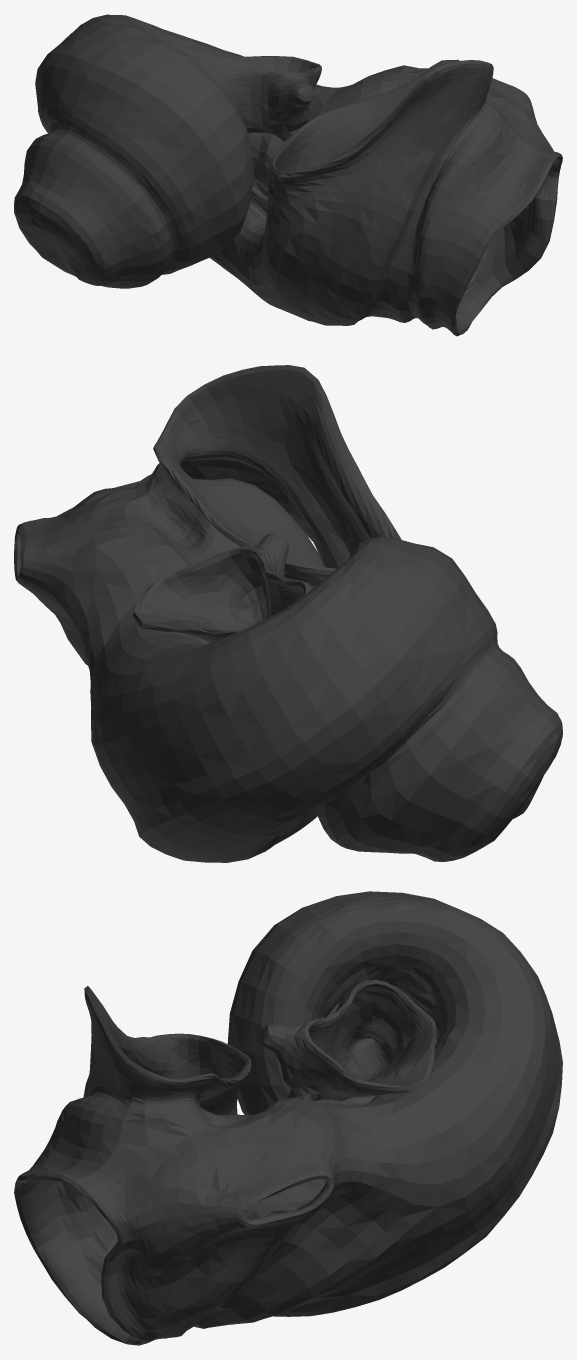
File: Cochlea_L.glb
3 views of the same model, one above another, from view 1: azimuth 30°, elevation 25°; view 2: azimuth 150°, elevation 25°; view 3: azimuth 270°, elevation 25° (orthographic). The views are drawn at different scales.
Visible parts, largest first — view 1: Cochlea_L; view 2: Cochlea_L; view 3: Cochlea_L.
Boxes of the visible parts, x1,y1,x2,y2 form: Cochlea_L: (14,14,562,336); Cochlea_L: (14,365,562,862); Cochlea_L: (14,891,562,1345).
Size of the model in its own units: 2.78 by 1.7 by 2.45.
1 material, 1 textured.
